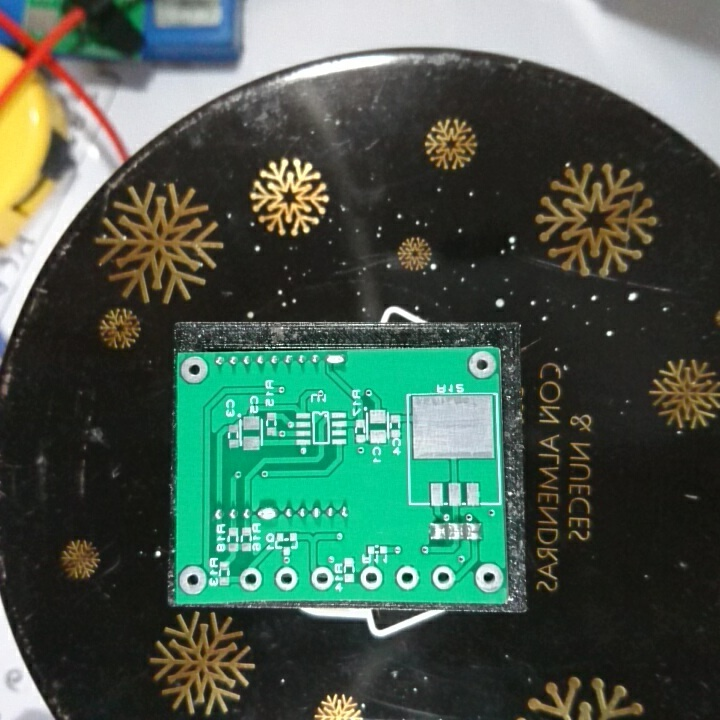F: (473, 558, 504, 596), (177, 354, 210, 386), (467, 349, 496, 380), (392, 562, 420, 594), (179, 564, 206, 597), (429, 563, 456, 592), (273, 565, 300, 592), (309, 565, 333, 595), (358, 565, 384, 591), (239, 566, 264, 593)
P: (255, 504, 281, 524), (324, 352, 347, 368)
